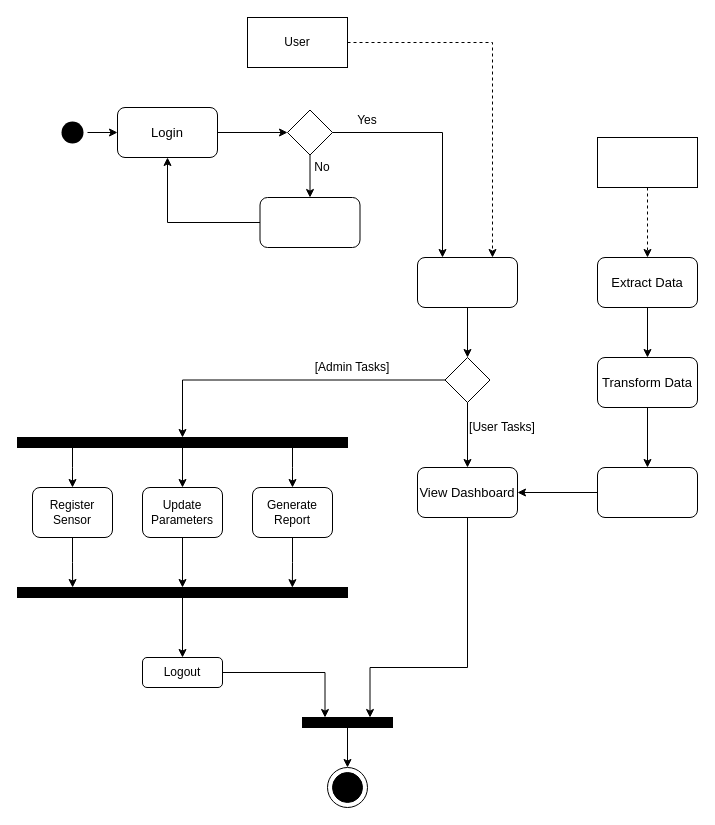
The diagram is 715 pixels wide and 825 high, and some of its shapes have lost their labels. The centre of each missing label's shape, as x and y in pixels:
"Access Webapp" belongs at (467,282).
"Load Data" belongs at (647,492).
"Login error" belongs at (309,222).
"Sensor" belongs at (647,162).
